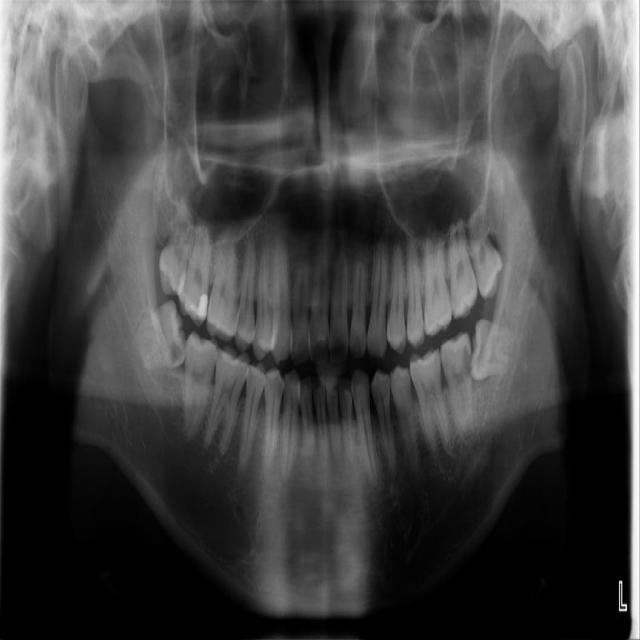Caries: (463, 347, 472, 378)
Filling: (187, 292, 210, 321)
impacted tooth: (132, 301, 185, 368), (471, 319, 525, 381)
